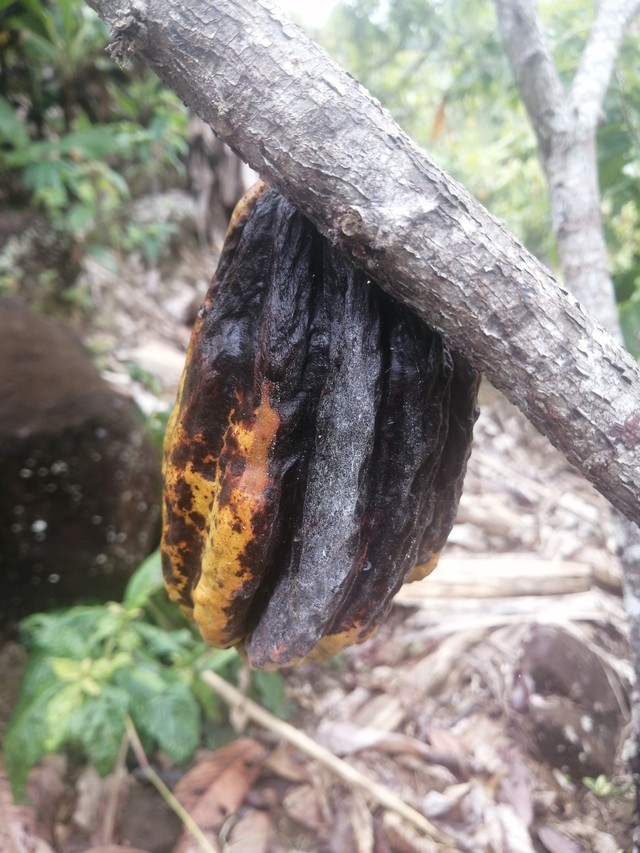moniliophthora roreri: (139, 160, 492, 678)
